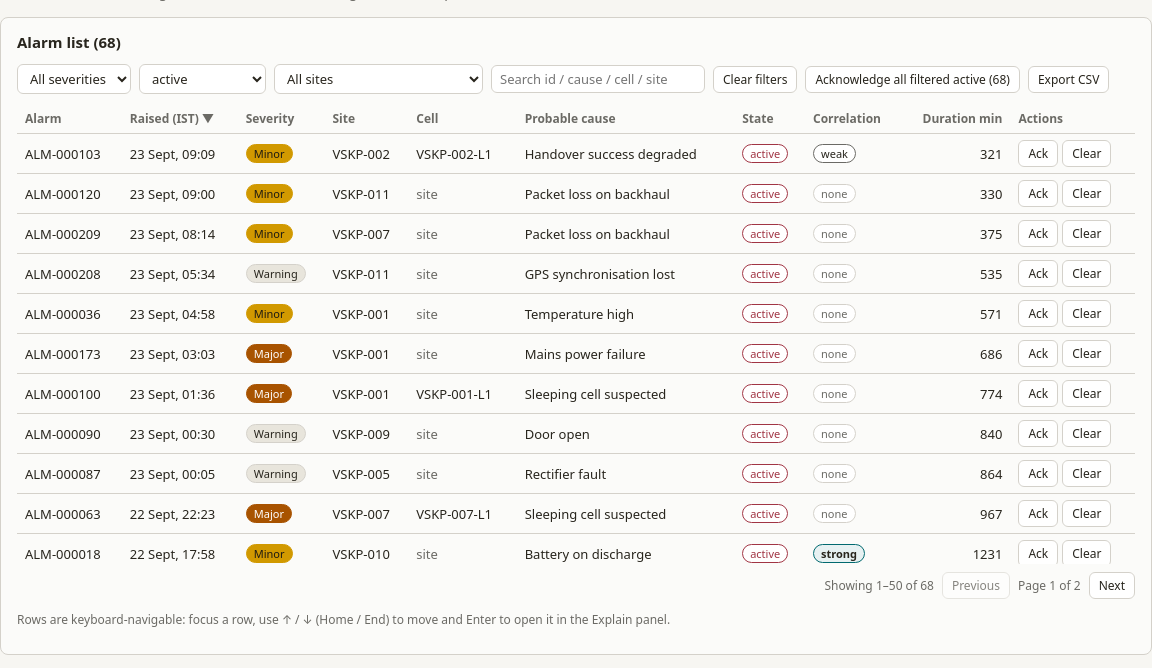
Alarms page — operator actions and audit › exports and clears the audit trail
Click the button "Ack" in the row of "ALM-000103" at coordinates (1038, 154), box [1018,140,1058,167]
(page scrolled)
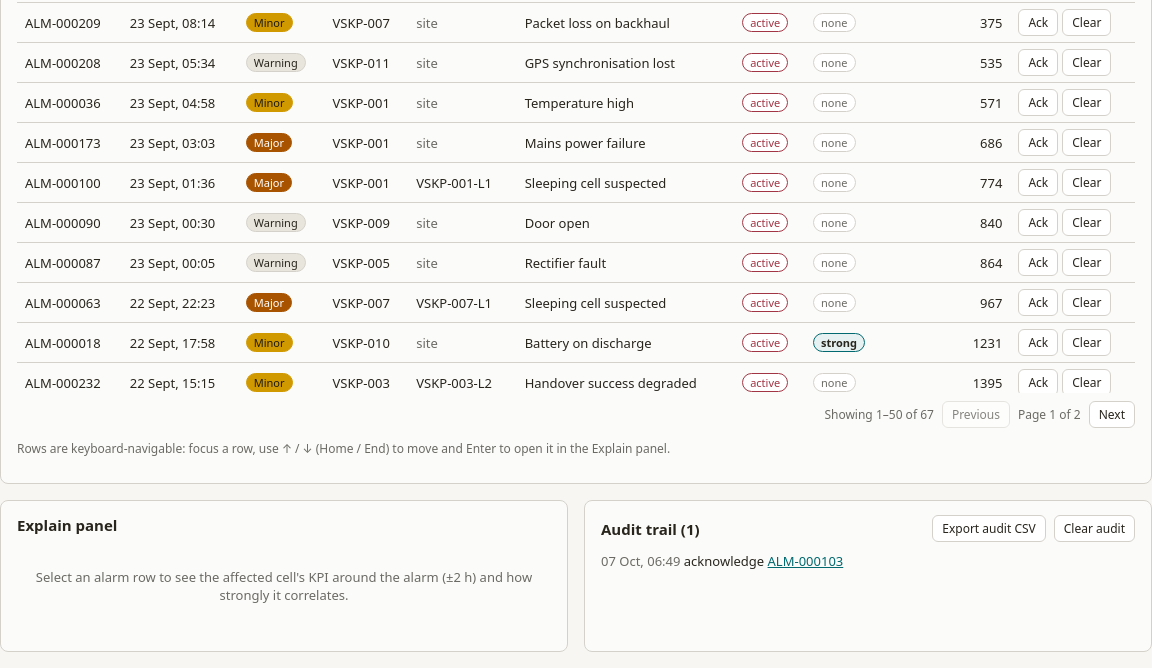
Click the button "Export audit CSV" at coordinates (989, 528), box [932,515,1046,542]
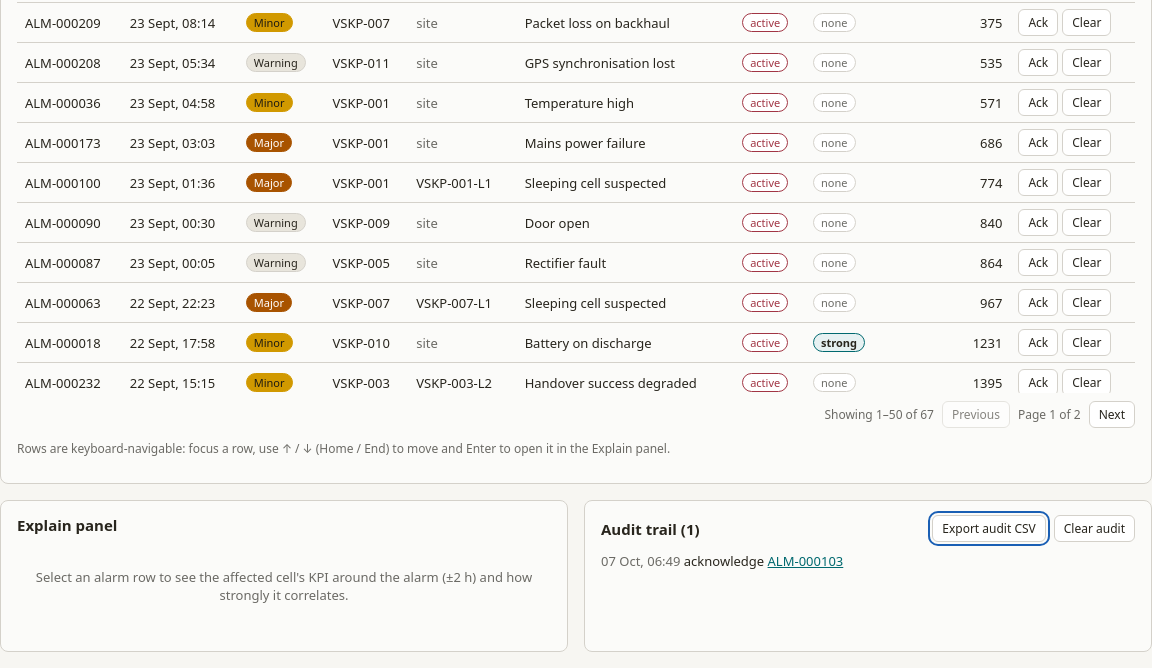
Click the button "Clear audit" at coordinates (1094, 528), box [1054,515,1135,542]
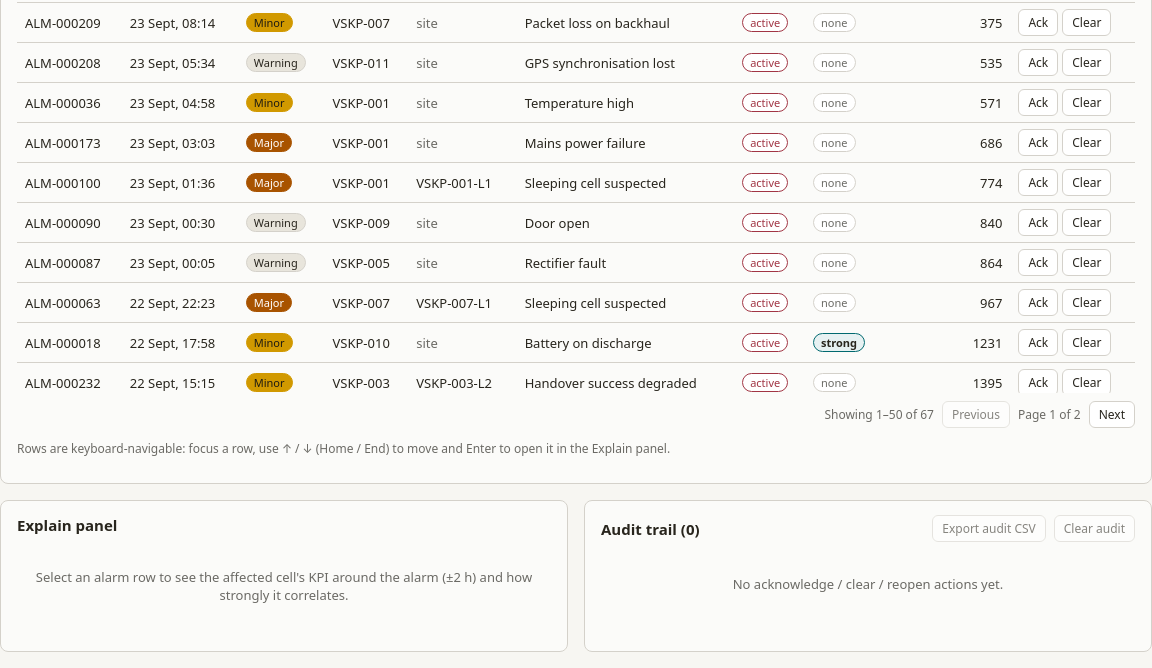
Expected: the heading "Audit trail (0)" is shown, [601,518,700,538]
